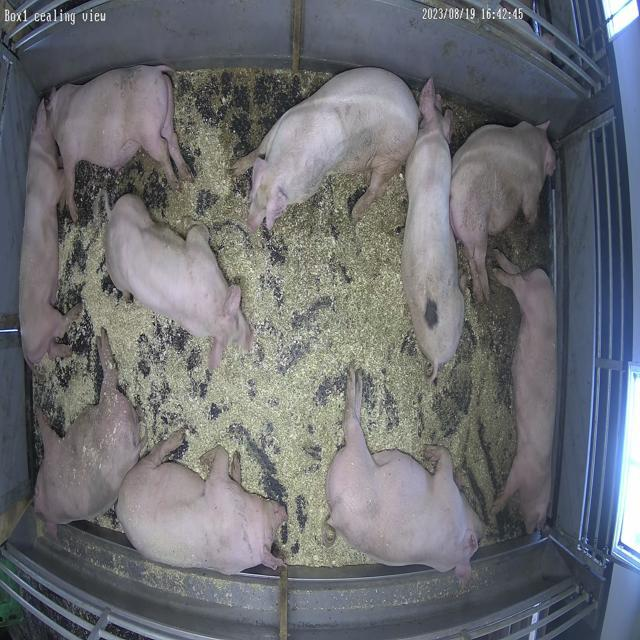Dirt: (192, 68, 294, 166), (458, 256, 522, 384), (490, 209, 554, 274), (446, 98, 484, 146)
Pig: (327, 369, 483, 579), (235, 67, 419, 230), (105, 196, 251, 368), (116, 432, 287, 576), (34, 330, 143, 536), (50, 65, 190, 220), (402, 79, 465, 382), (452, 121, 557, 302), (495, 251, 558, 534), (19, 99, 71, 364)
